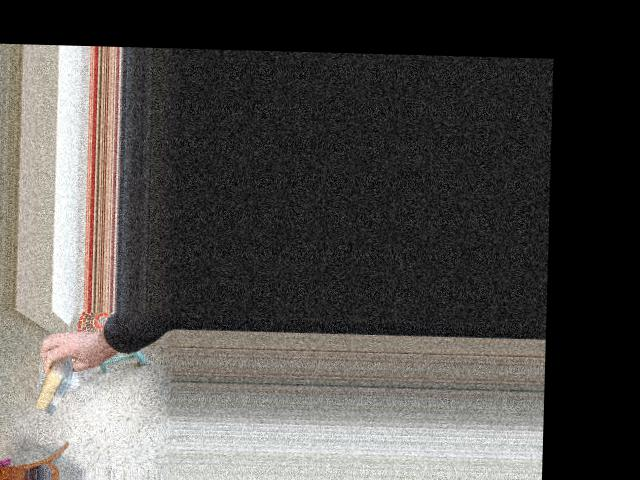cheese: (35, 331, 76, 420)
